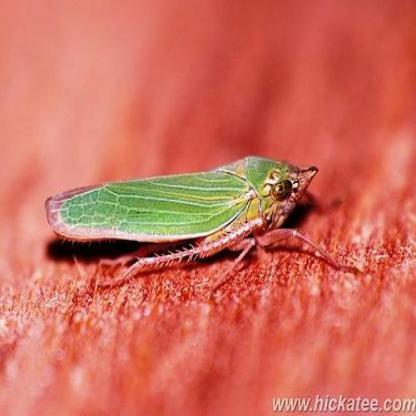green-leafhopper: (44, 155, 316, 263)
